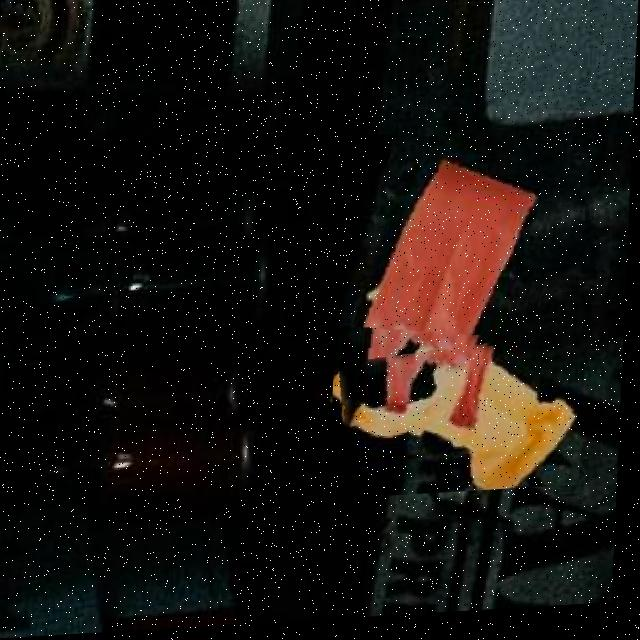litter: (333, 136, 559, 463), (337, 339, 588, 504)
